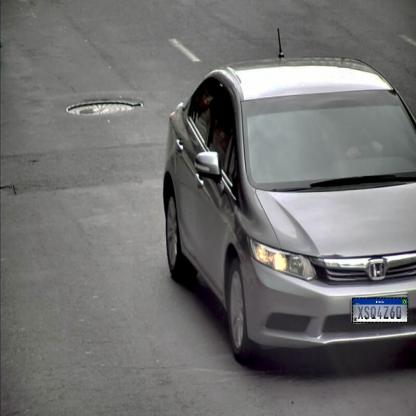PlacaM: (352, 298, 408, 323)
